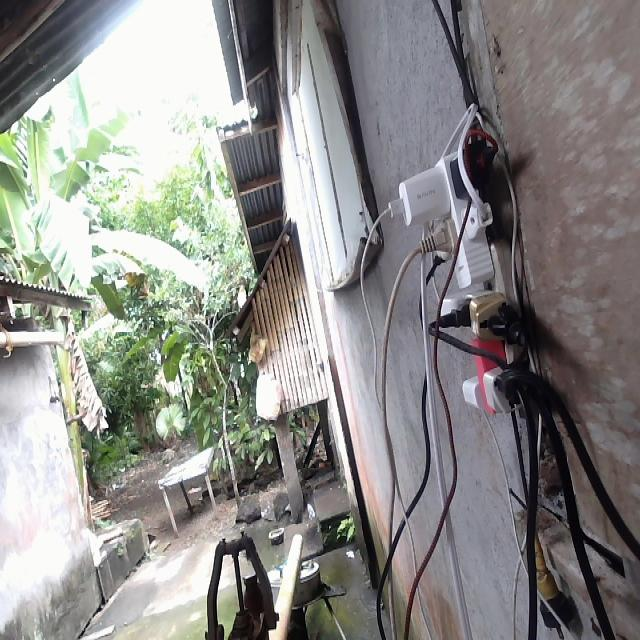-: (386, 141, 528, 415)
